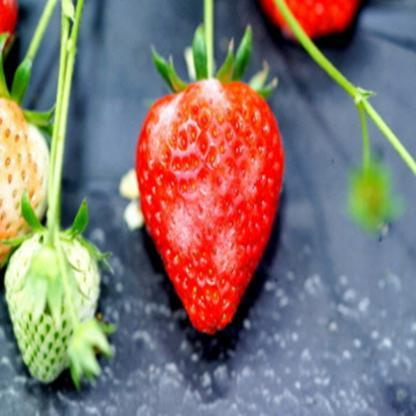Strawberry_Powdery_Mildew_Fruit: (134, 78, 284, 335)
